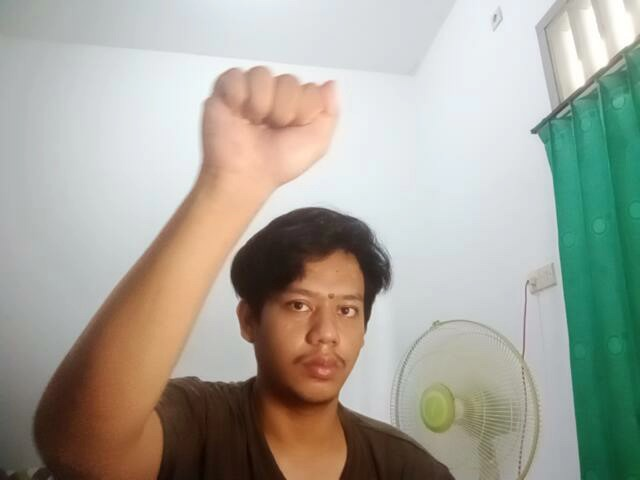A: (197, 56, 344, 194)
